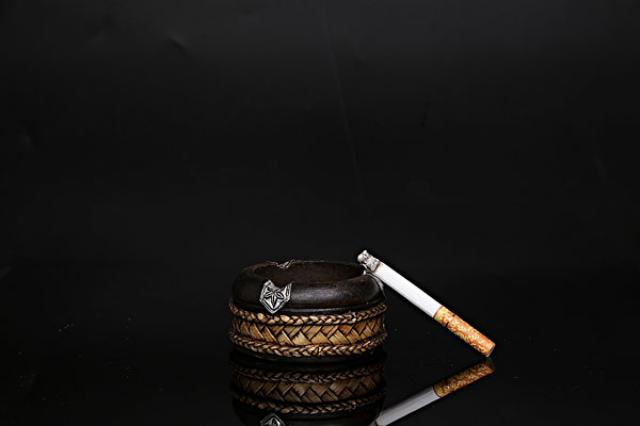Cigarette: (358, 250, 496, 356), (369, 363, 493, 426)
